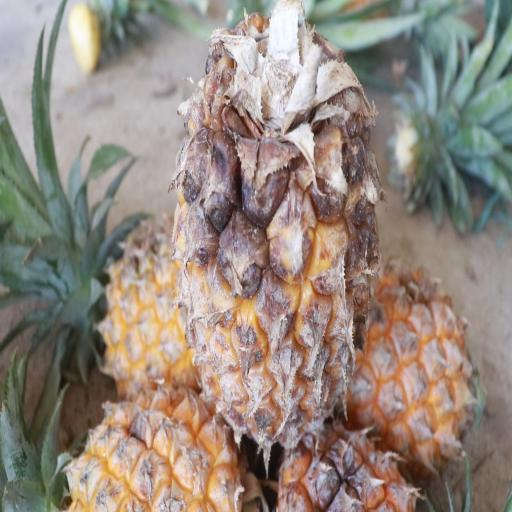Pineapple - v8 v1: (174, 0, 388, 463), (314, 257, 475, 494), (73, 222, 249, 408), (58, 381, 273, 512)
